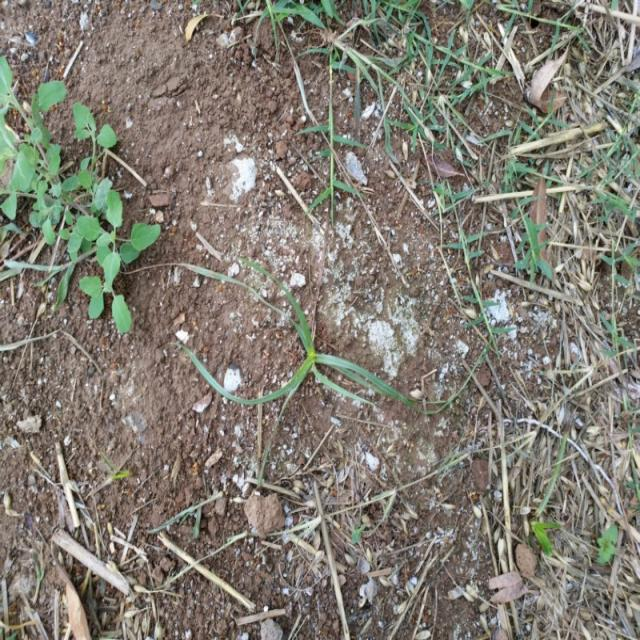sedge: (138, 260, 458, 461)
